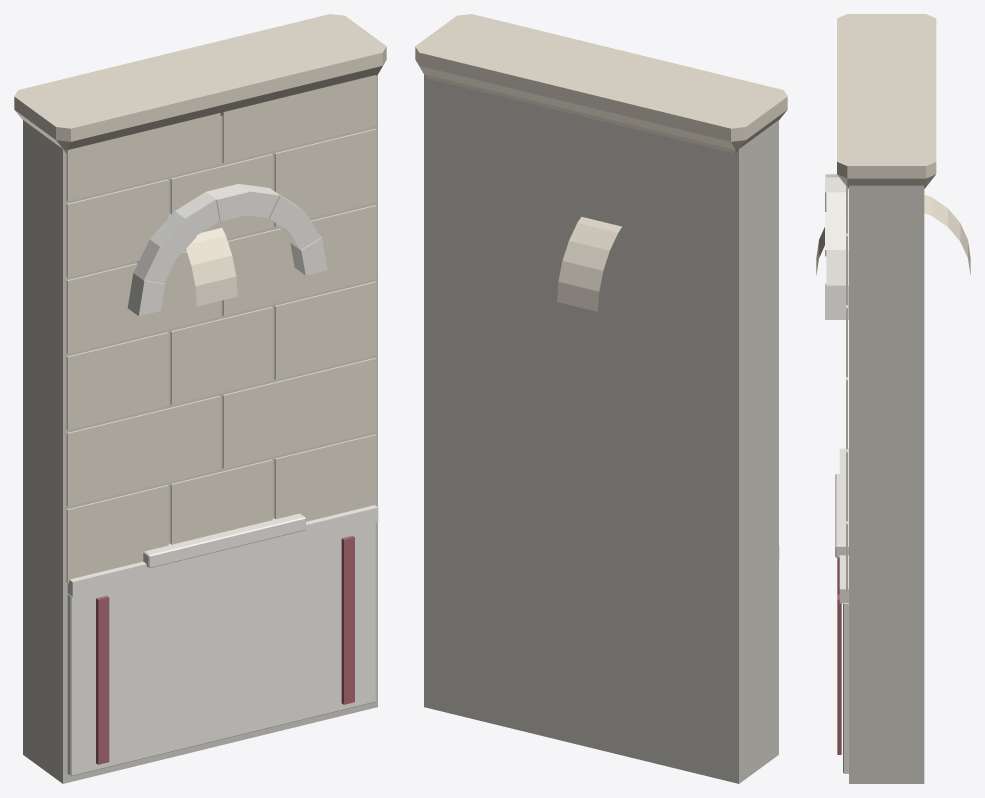
Rendered from roman-bathhouse-and-palaestra-bathhouse-wall-module-ni-558d9c1f__37856.glb.
3 views of the same model, side by side, from view 1: azimuth 30°, elevation 25°; view 2: azimuth 150°, elevation 25°; view 3: azimuth 270°, elevation 25° (orthographic). The views are drawn at different scales.
Visible parts, largest first — view 1: bathhouse-wall-module-niche; view 2: bathhouse-wall-module-niche; view 3: bathhouse-wall-module-niche.
Part boxes in pixels (bbox=[...]): bathhouse-wall-module-niche: bbox=[14, 14, 386, 783]; bathhouse-wall-module-niche: bbox=[415, 14, 787, 783]; bathhouse-wall-module-niche: bbox=[816, 14, 970, 783].
Bounding box in the file's own units: 2.1 × 4 × 0.9001.
